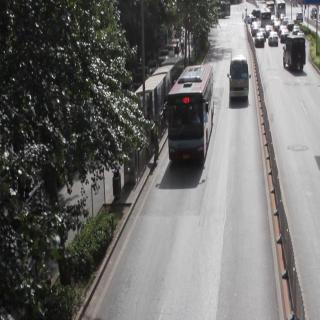BigCar: (170, 61, 215, 167), (229, 50, 253, 104), (285, 34, 306, 76), (256, 6, 271, 28), (273, 0, 286, 18)
Car: (254, 31, 268, 54), (244, 8, 258, 28), (293, 9, 306, 28), (280, 26, 291, 42), (269, 34, 279, 50)
